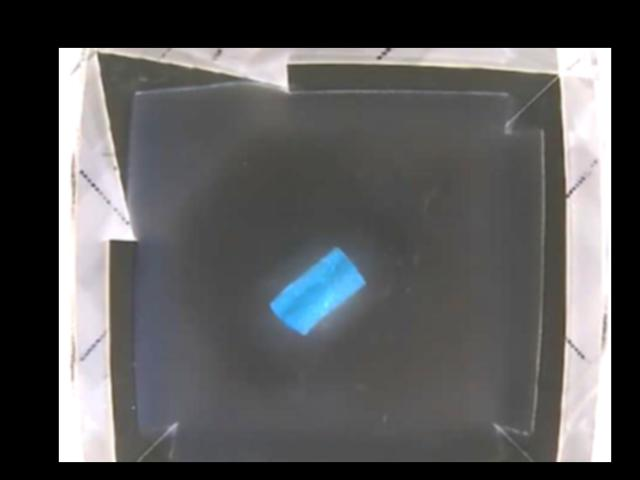Carrot: (268, 245, 366, 333)
